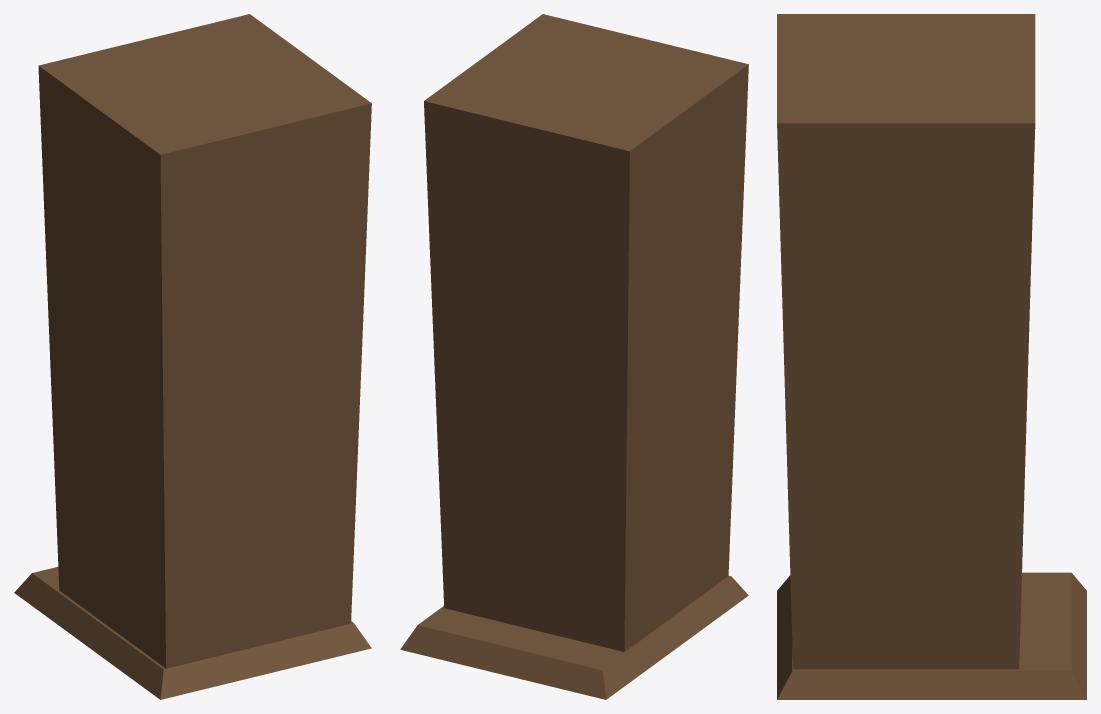
Rendered from animal_mastodon_leg.obj.
3 renders of one model, left to right at view 1: azimuth 30°, elevation 25°; view 2: azimuth 150°, elevation 25°; view 3: azimuth 270°, elevation 25°, orthographic. The views are drawn at different scales.
Visible parts, largest first — view 1: animal_mastodon_leg; view 2: animal_mastodon_leg; view 3: animal_mastodon_leg.
Part boxes in pixels (x1,y1,x2,y2): animal_mastodon_leg: (14,14,371,699); animal_mastodon_leg: (400,14,748,699); animal_mastodon_leg: (777,14,1086,699).
Bounding box in the file's own units: 0.3036 × 0.748 × 0.3643.
